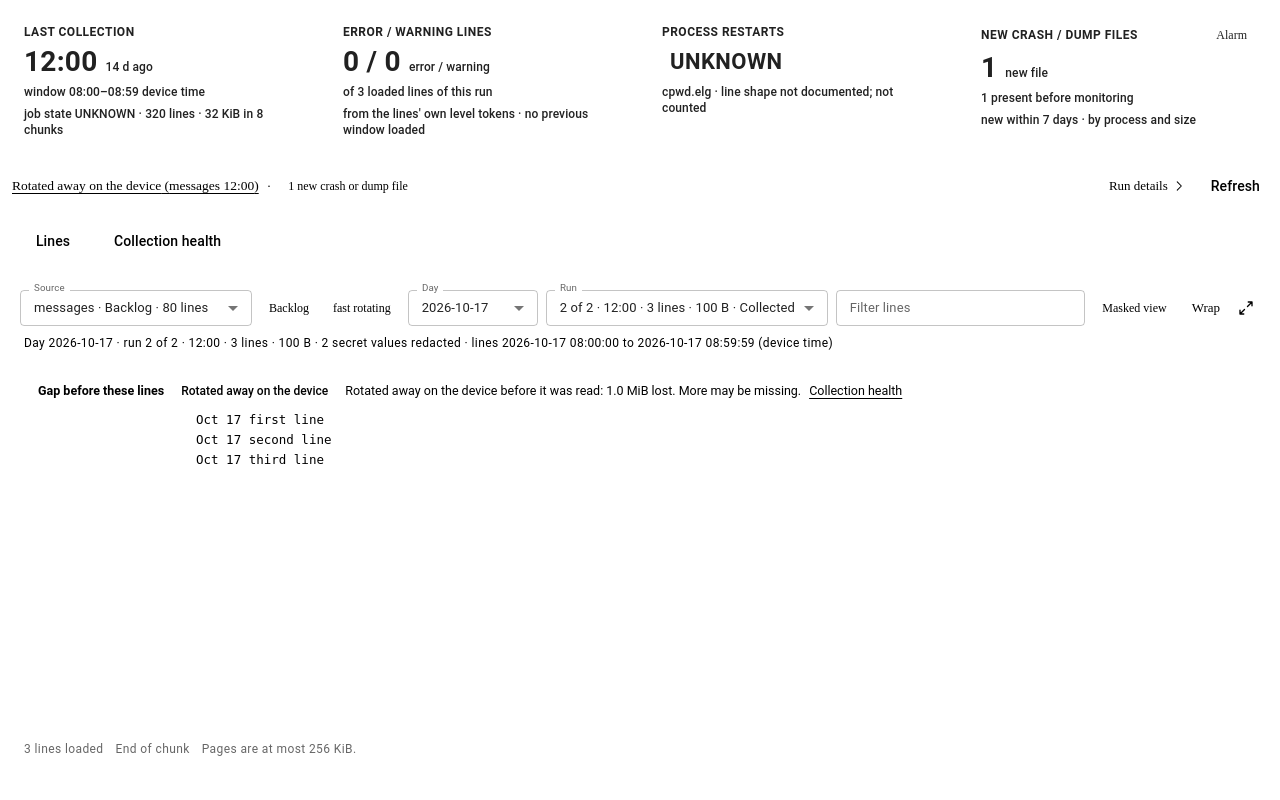
line viewer › filters the loaded lines and reports how many match
This screenshot has width=1280, height=800.
Type "SECOND" into the field labelled "Filter lines".
click(961, 308); type("SECOND")  # box [836,290,1085,326]
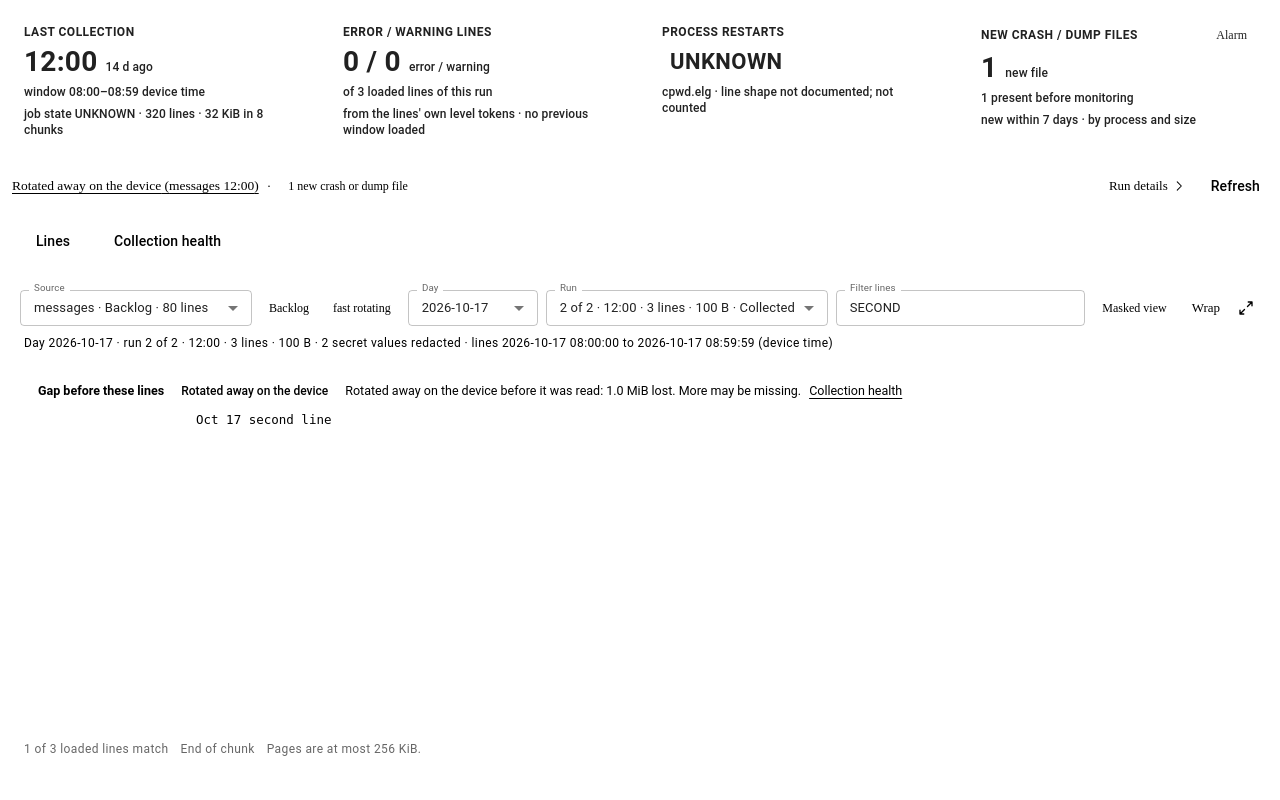
Result: the number of elements with test id "log-line" is 1 at [196,412,332,427]
Result: the element with test id "log-line" shows "second line" at [196,412,332,427]
Result: the text "1 of 3 loaded lines match" is shown at [24,740,168,760]
Replace the text in the field labelled "Filter lines" with "no such text" at (961, 308), box [836,290,1085,326]
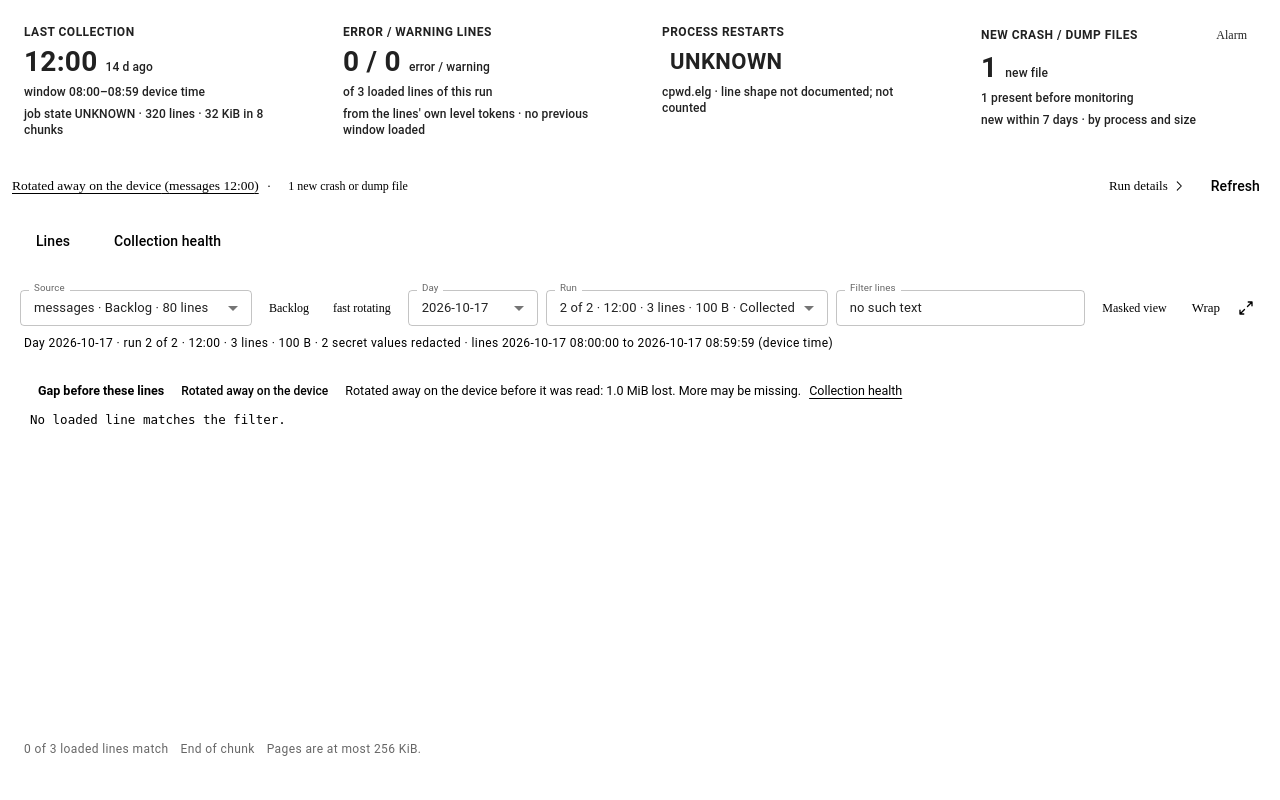
Result: the text "No loaded line matches the filter." is shown at [30,412,286,427]
